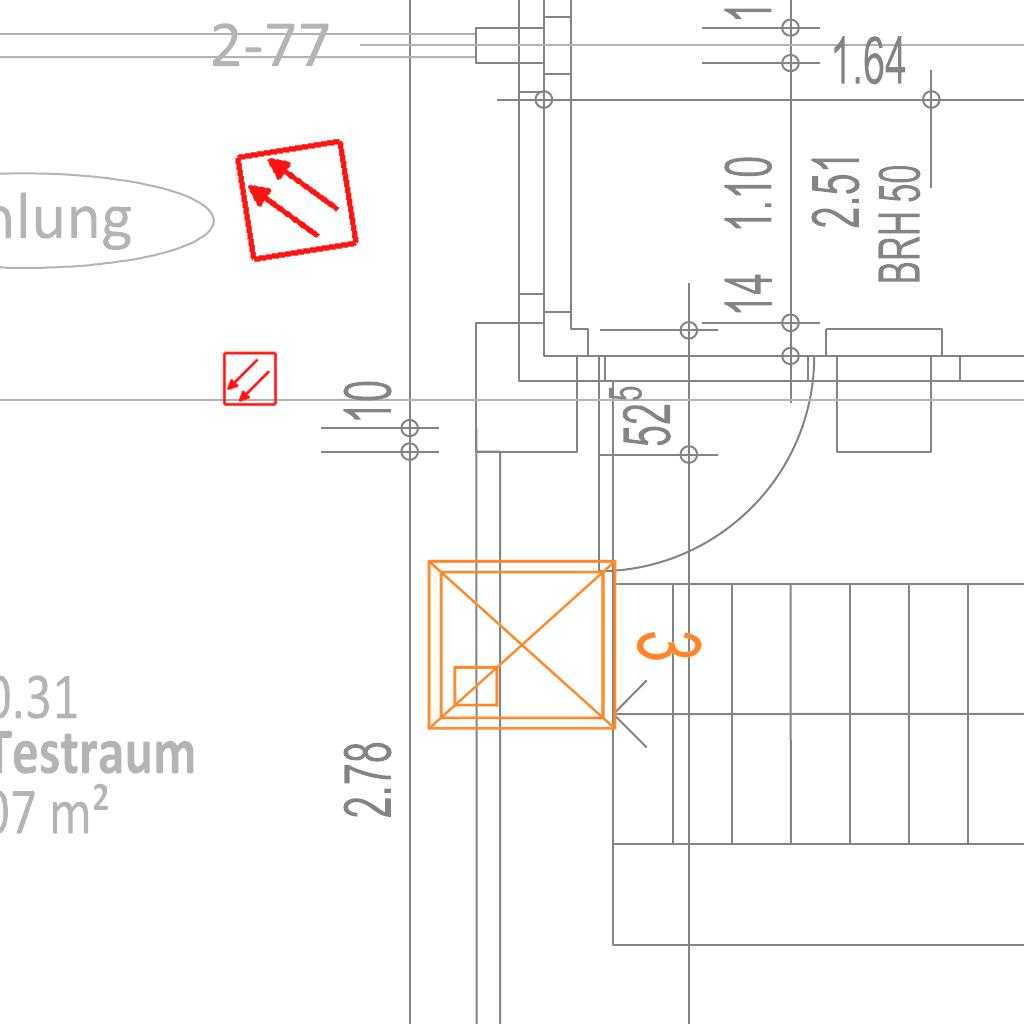Einbaudownlights_LED_Konferenzraeume: (413, 537, 713, 745)
RMO_Rauchmelder_optischer: (231, 135, 362, 266), (222, 351, 278, 407)
